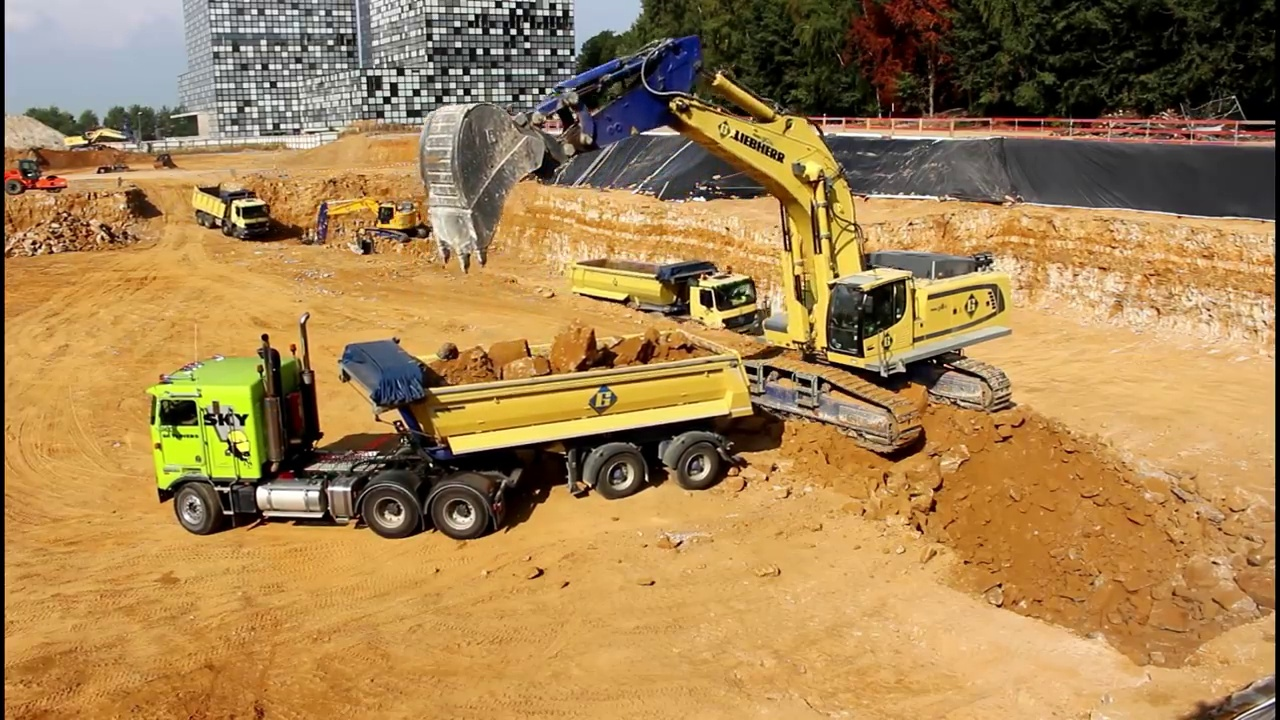compactor: (5, 159, 70, 195)
excavator: (414, 28, 1022, 462), (301, 192, 435, 261), (60, 126, 132, 157)
truck: (143, 309, 761, 545), (568, 255, 777, 371), (184, 176, 278, 245)
